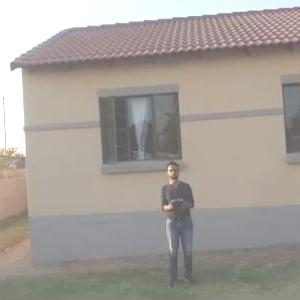follow: (159, 157, 201, 293)
